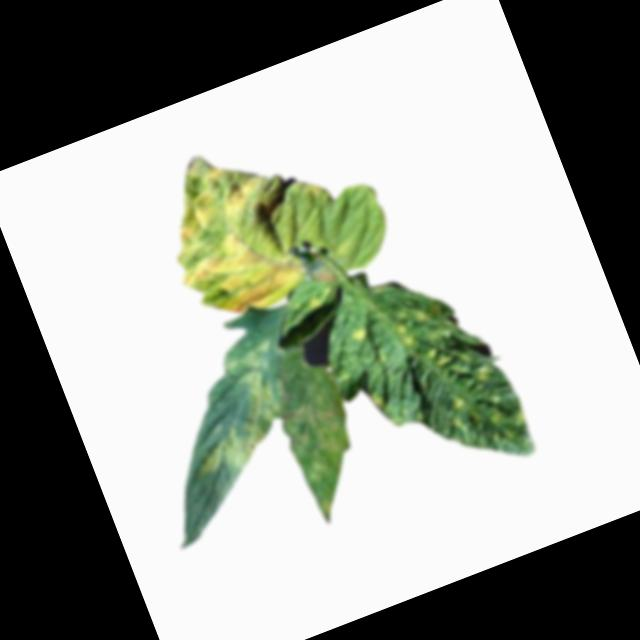Leaf_Mold: (139, 114, 360, 333), (387, 279, 539, 485), (166, 338, 308, 484), (277, 387, 381, 526), (348, 325, 369, 346), (304, 295, 323, 313)
